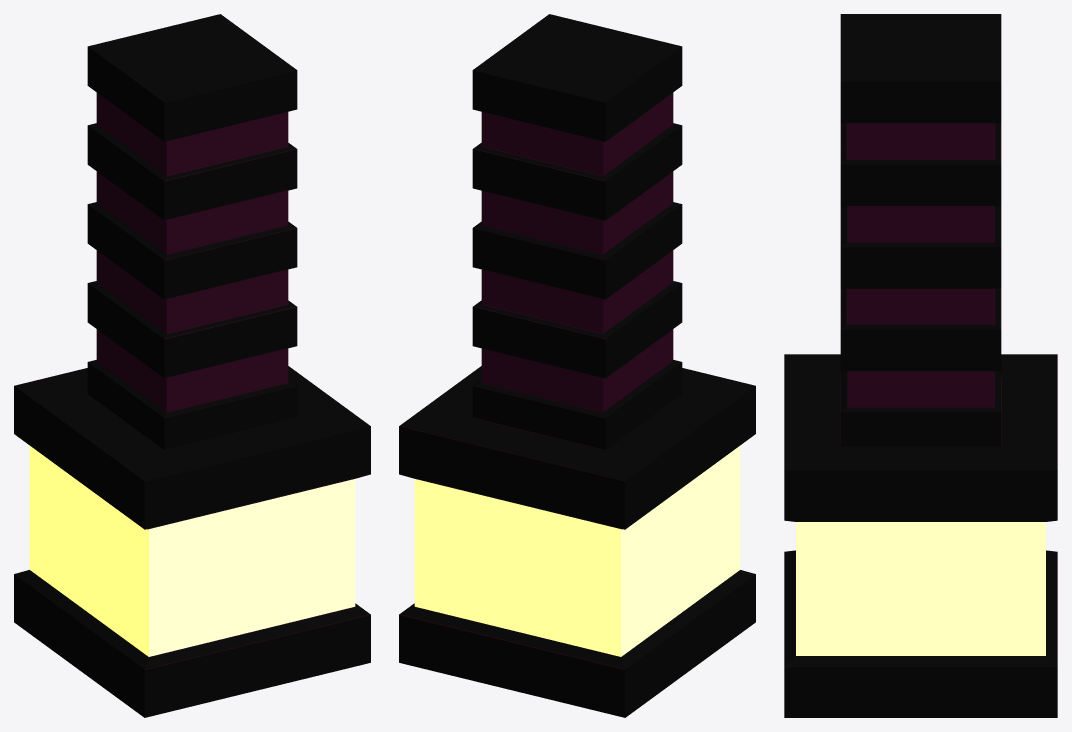
Rendered from Lamp.glb.
3 renders of one model, left to right at view 1: azimuth 30°, elevation 25°; view 2: azimuth 150°, elevation 25°; view 3: azimuth 270°, elevation 25°, orthographic. The views are drawn at different scales.
Visible parts, largest first — view 1: Lamp, Lamp.001; view 2: Lamp, Lamp.001; view 3: Lamp, Lamp.001.
Part boxes in pixels (<box>): Lamp: <box>14,14,370,717</box>; Lamp.001: <box>29,446,355,656</box>; Lamp: <box>399,14,755,717</box>; Lamp.001: <box>414,446,740,656</box>; Lamp: <box>784,14,1057,717</box>; Lamp.001: <box>796,522,1045,655</box>.
Bounding box in the file's own units: 2 × 4.94 × 2.
2 materials, 1 textured.
